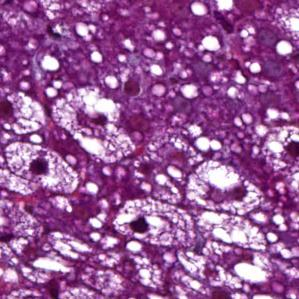ballooning: (49, 82, 138, 167), (4, 140, 83, 199), (187, 158, 263, 219), (110, 196, 196, 249)
